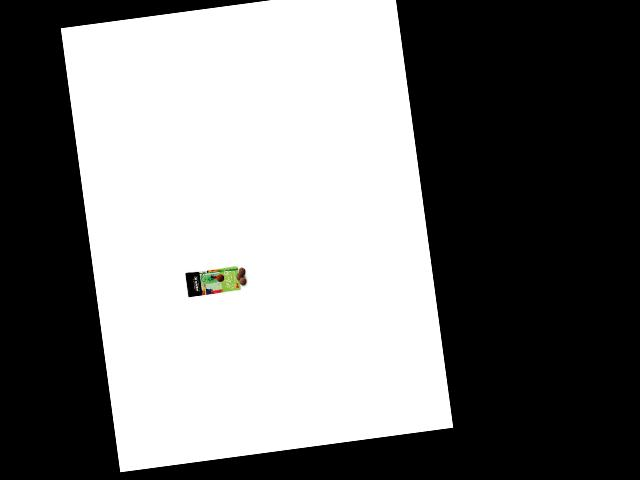chocolate: (182, 259, 242, 301)
